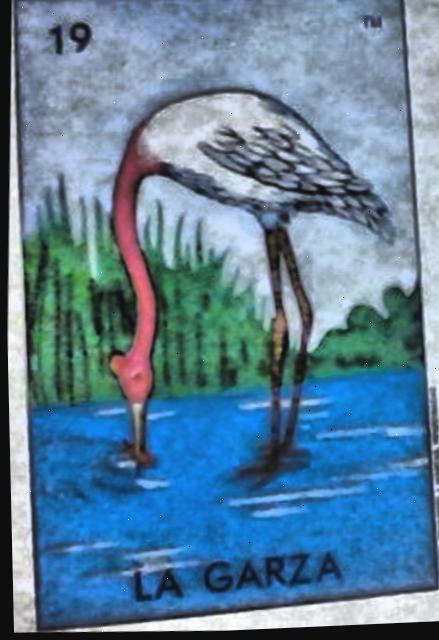El Garza: (15, 0, 433, 631)
